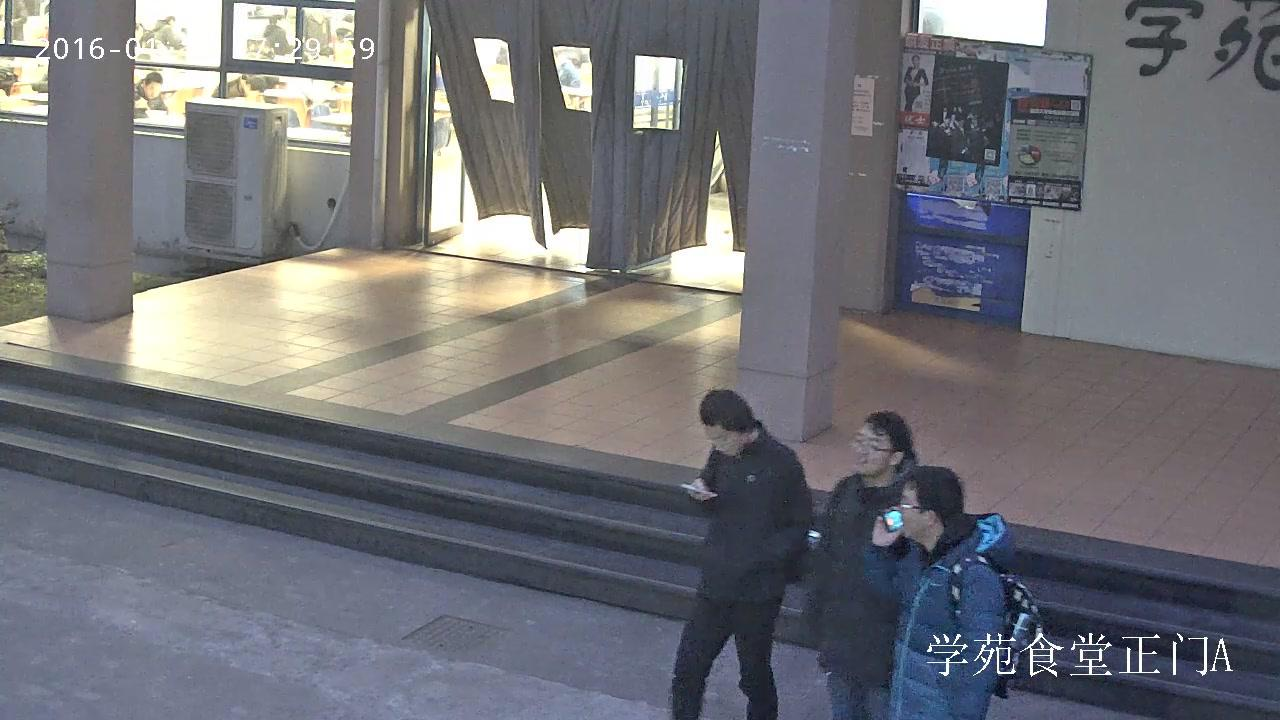person: (667, 389, 809, 720), (865, 464, 1043, 720), (809, 407, 930, 720), (131, 70, 167, 117), (902, 55, 927, 113)
